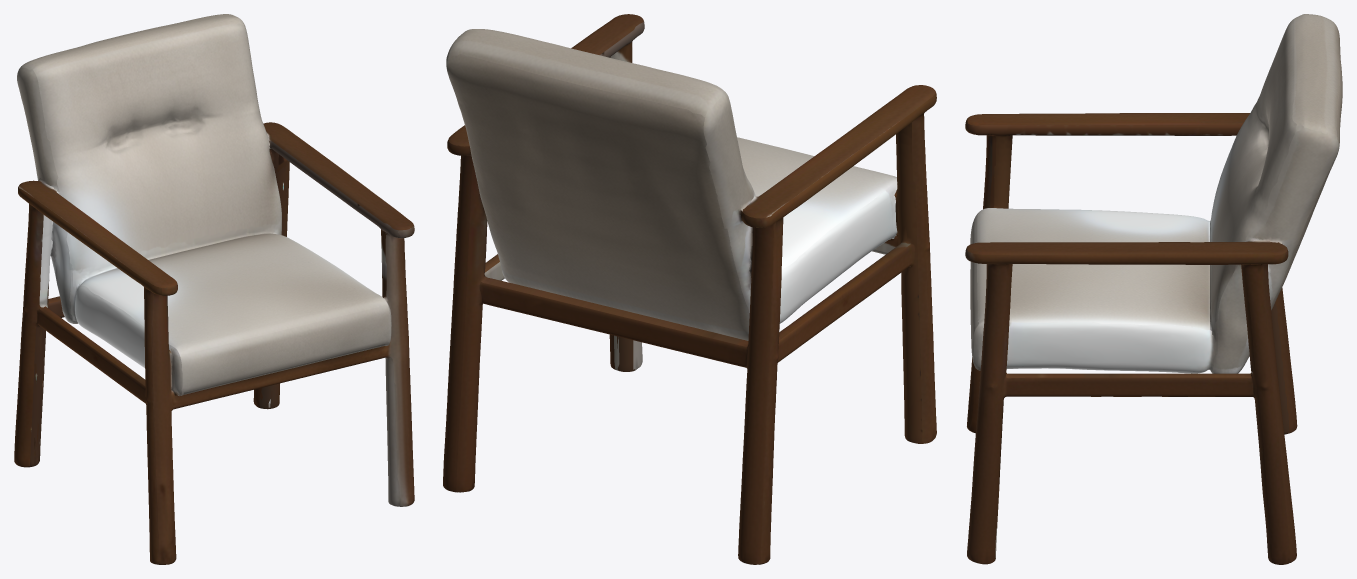
File: chair__chair#1.glb
3 views of the same model, side by side, from view 1: azimuth 30°, elevation 25°; view 2: azimuth 150°, elevation 25°; view 3: azimuth 270°, elevation 25° (orthographic). The views are drawn at different scales.
Visible parts, largest first — view 1: tmp6ujgv45a.ply; view 2: tmp6ujgv45a.ply; view 3: tmp6ujgv45a.ply.
Part boxes in pixels (bbox=[...]): tmp6ujgv45a.ply: bbox=[14, 14, 414, 564]; tmp6ujgv45a.ply: bbox=[443, 14, 936, 564]; tmp6ujgv45a.ply: bbox=[965, 14, 1342, 564].
Size of the model in its own units: 1.42 by 1.99 by 1.58.
1 material, 1 textured.
